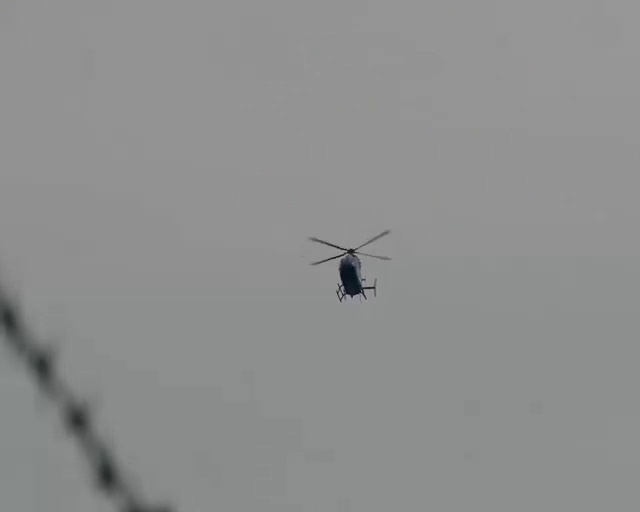HELICOPTER: (307, 228, 393, 303)
